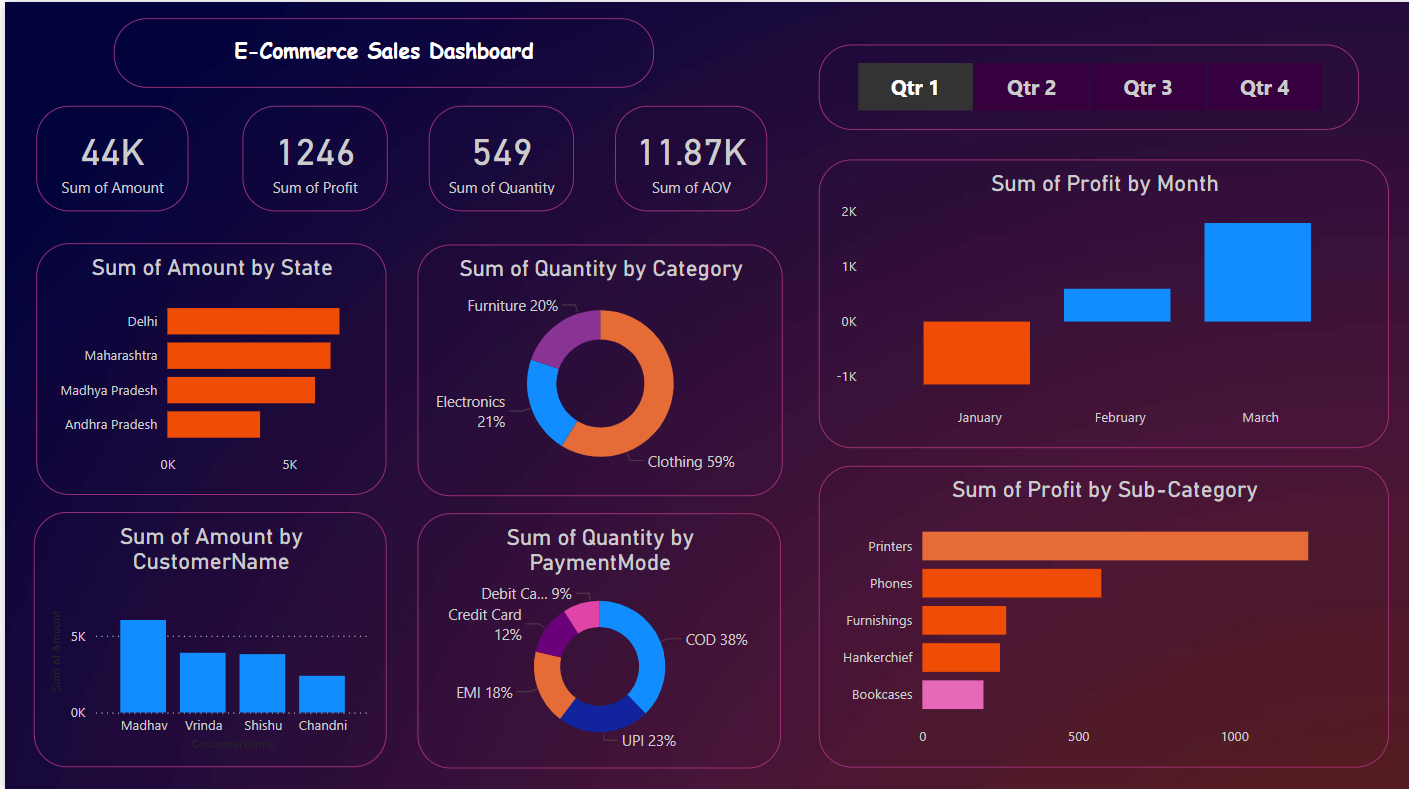

The dashboard page shown, as its layout file describes it:
{"tool":"powerbi","page":{"name":"Page 1","canvas":[1280,720],"ordinal":0},"visuals":[{"type":"textbox","box":[98.8,15.1,491.3,63.1],"z":0},{"type":"columnChart","fields":{"Y":["Details.Profit"],"Category":["Orders.Order Date.Variation.Date Hierarchy.Month"]},"box":[739.6,142.7,518.7,262.1],"z":1000},{"type":"barChart","fields":{"Category":["Details.Sub-Category"],"Y":["Details.Profit"]},"box":[739.6,421.3,518.7,274.4],"z":2000},{"type":"donutChart","fields":{"Category":["Details.Category"],"Y":["Details.Quantity"]},"box":[374.6,220.9,332.1,229.2],"z":3000},{"type":"donutChart","fields":{"Category":["Details.PaymentMode"],"Y":["Details.Quantity"]},"box":[374.6,465.2,330.7,231.9],"z":4000},{"type":"card","fields":{"Values":["Details.Amount"]},"box":[28.8,94.7,138.6,96.1],"z":5000},{"type":"card","fields":{"Values":["Details.Profit"]},"box":[215.4,94.7,131.7,96.1],"z":6000},{"type":"card","fields":{"Values":["Details.Quantity"]},"box":[385.6,94.7,131.7,96.1],"z":7000},{"type":"card","fields":{"Values":["Details.AOV"]},"box":[554.4,94.7,138.6,96.1],"z":8000},{"type":"barChart","fields":{"Category":["Orders.State"],"Y":["Details.Amount"]},"box":[28.8,219.6,318.4,229.2],"z":9000},{"type":"columnChart","fields":{"Category":["Orders.CustomerName"],"Y":["Details.Amount"]},"box":[26.1,463.8,321.1,231.9],"z":10000},{"type":"slicer","fields":{"Values":["Orders.Order Date.Variation.Date Hierarchy.Quarter"]},"box":[739.5,38.6,491,77.2],"z":11000}]}

Visuals, with their boxes in screenshot pixels (x1, y1, x2, y2), scaled from the page's 1280x720 canvas onto the 1409x789 screenshot:
textbox: x1=109 y1=17 x2=650 y2=86
columnChart - Details.Profit x Orders.Order Date.Variation.Date Hierarchy.Month: x1=814 y1=156 x2=1385 y2=444
barChart - Details.Sub-Category x Details.Profit: x1=814 y1=462 x2=1385 y2=762
donutChart - Details.Category x Details.Quantity: x1=412 y1=242 x2=778 y2=493
donutChart - Details.PaymentMode x Details.Quantity: x1=412 y1=510 x2=776 y2=764
card - Details.Amount: x1=32 y1=104 x2=184 y2=209
card - Details.Profit: x1=237 y1=104 x2=382 y2=209
card - Details.Quantity: x1=424 y1=104 x2=569 y2=209
card - Details.AOV: x1=610 y1=104 x2=763 y2=209
barChart - Orders.State x Details.Amount: x1=32 y1=241 x2=382 y2=492
columnChart - Orders.CustomerName x Details.Amount: x1=29 y1=508 x2=382 y2=762
slicer - Orders.Order Date.Variation.Date Hierarchy.Quarter: x1=814 y1=42 x2=1355 y2=127
